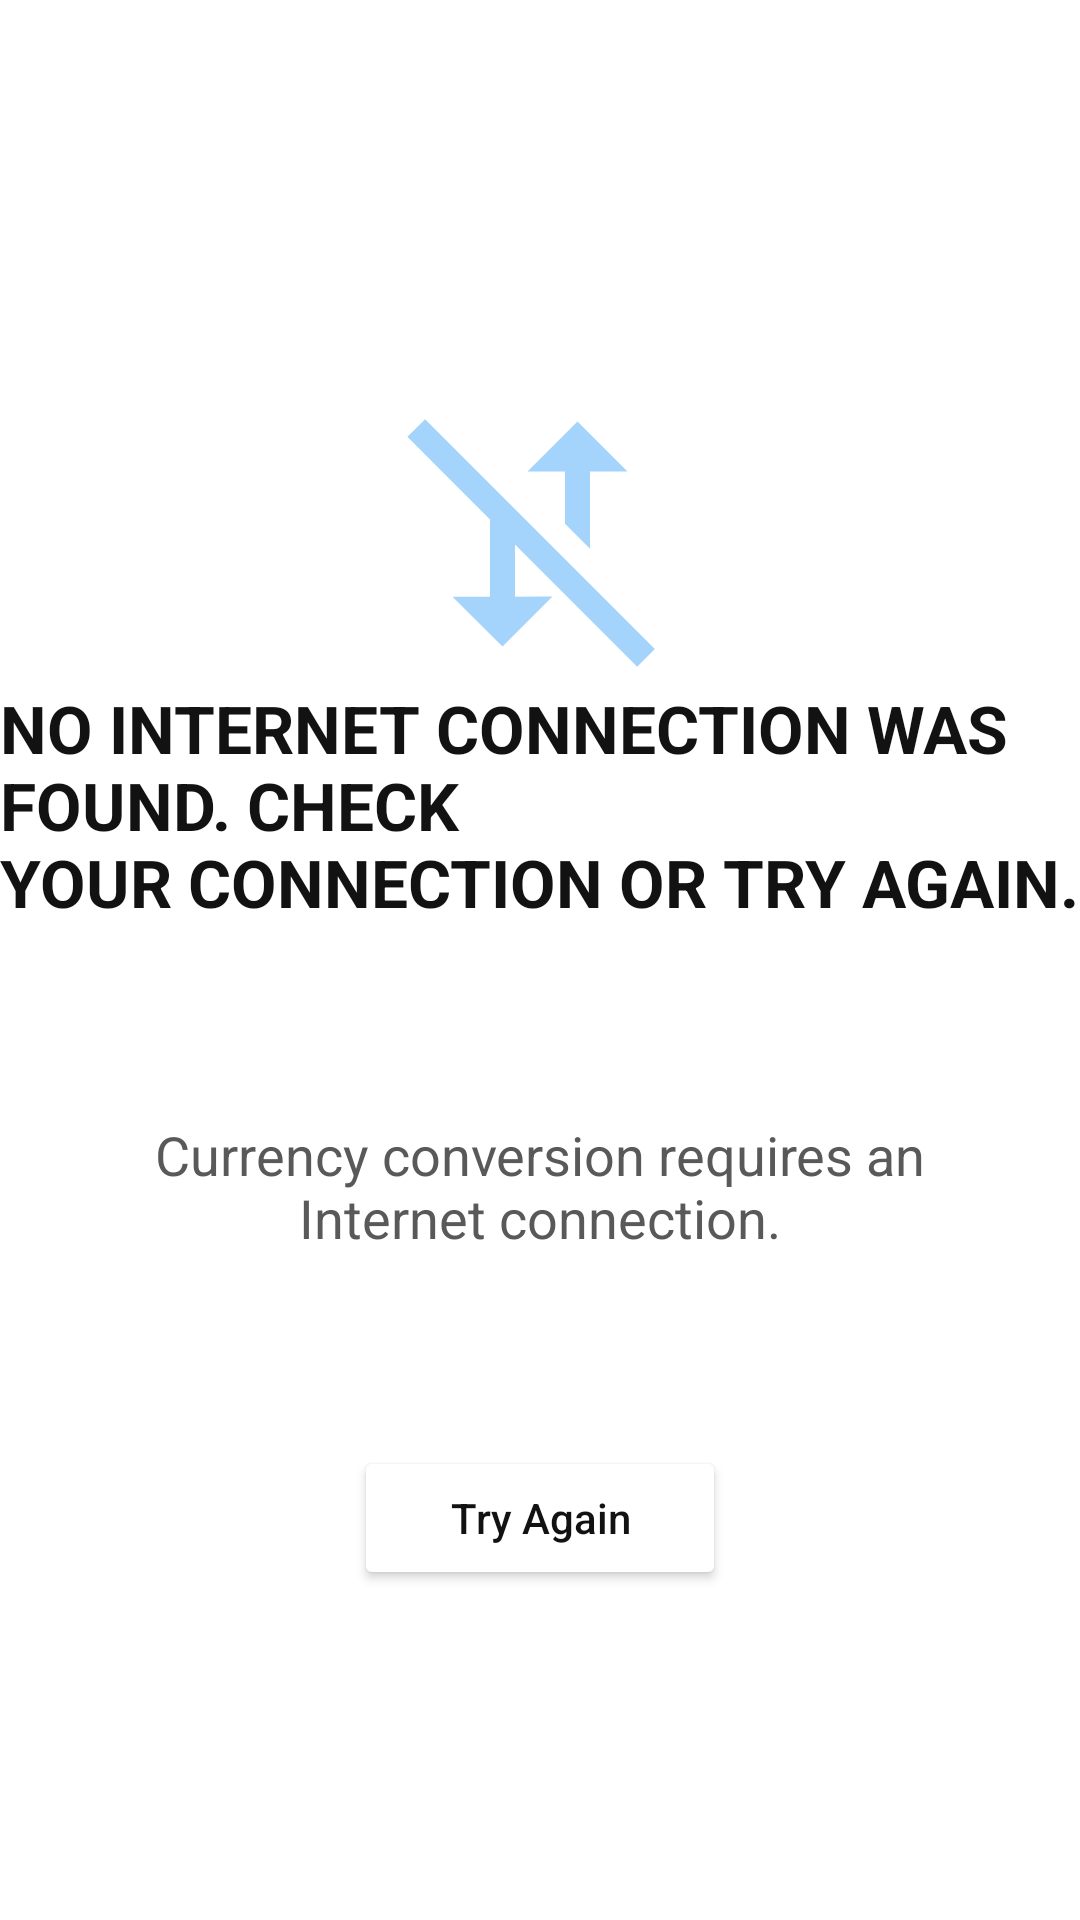

Where to tap for icons on this 1080 × 1920 app screen, as (x=x, y=y):
mobiledata off 600light: (x=531, y=543)
